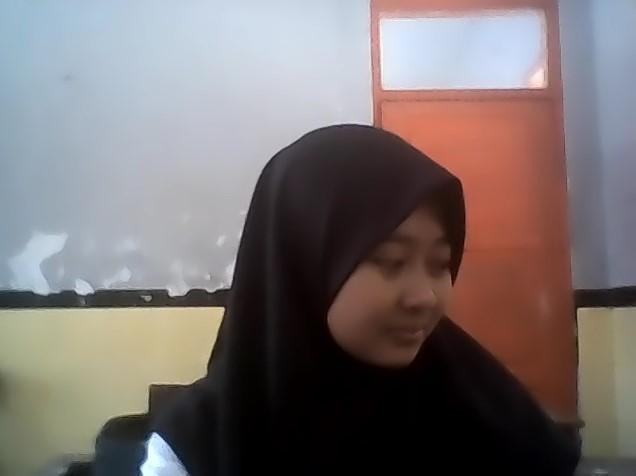cheating: (118, 98, 562, 476)
